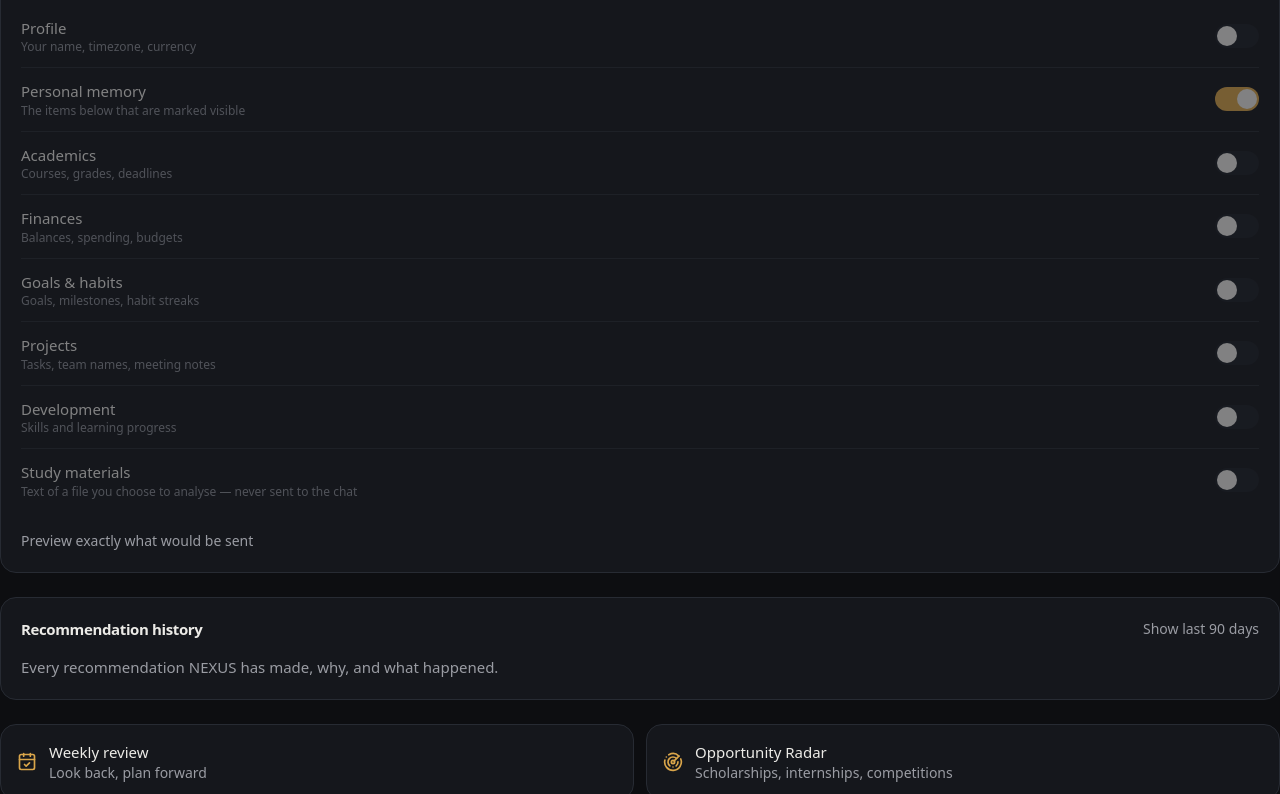
Scenario: IntelligencePage › with AI off, the preview is empty and toggles are disabled
(page scrolled)
Check: the checkbox named "Allow AI to see Personal memory" is disabled, box [1215,87,1259,111]
Click the button "Preview exactly what would be sent".
click(137, 540)  # box [21,530,253,550]
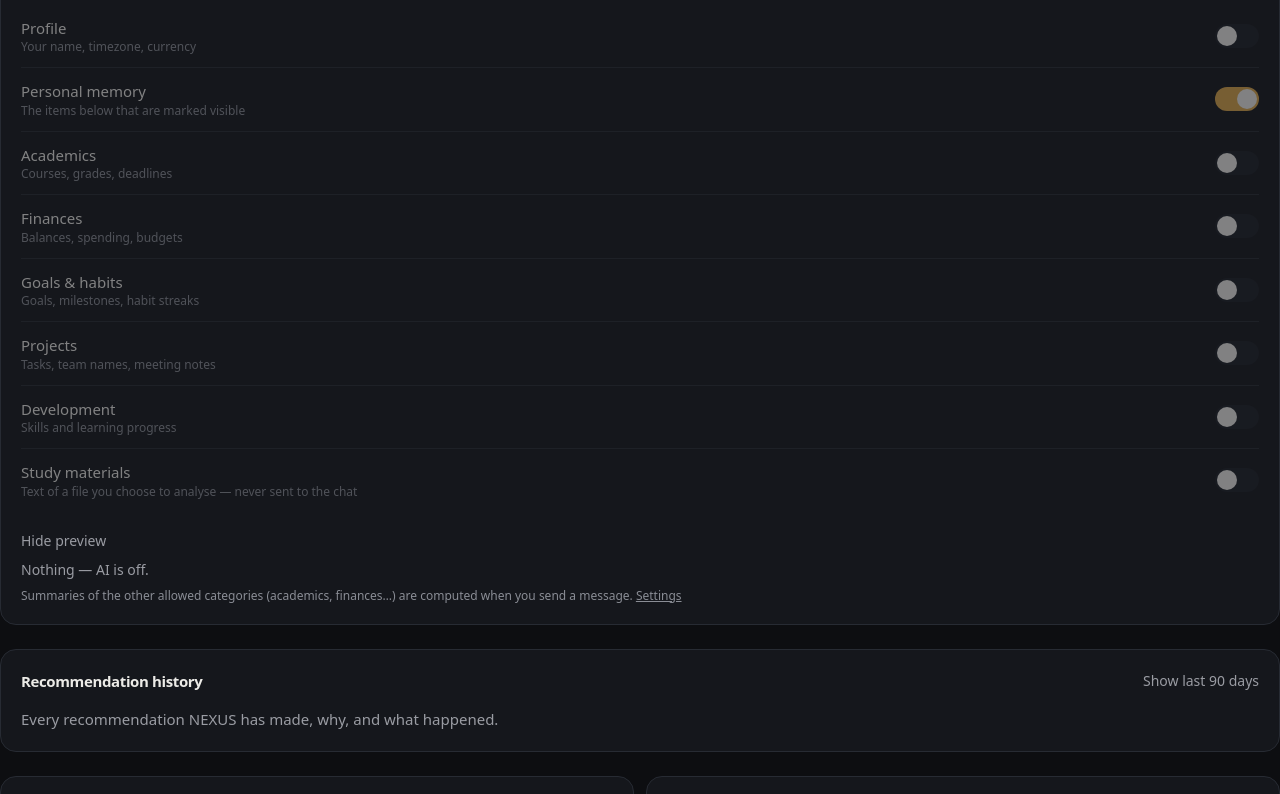
Check: the text "Nothing — AI is off." is shown, box [21,560,149,578]
